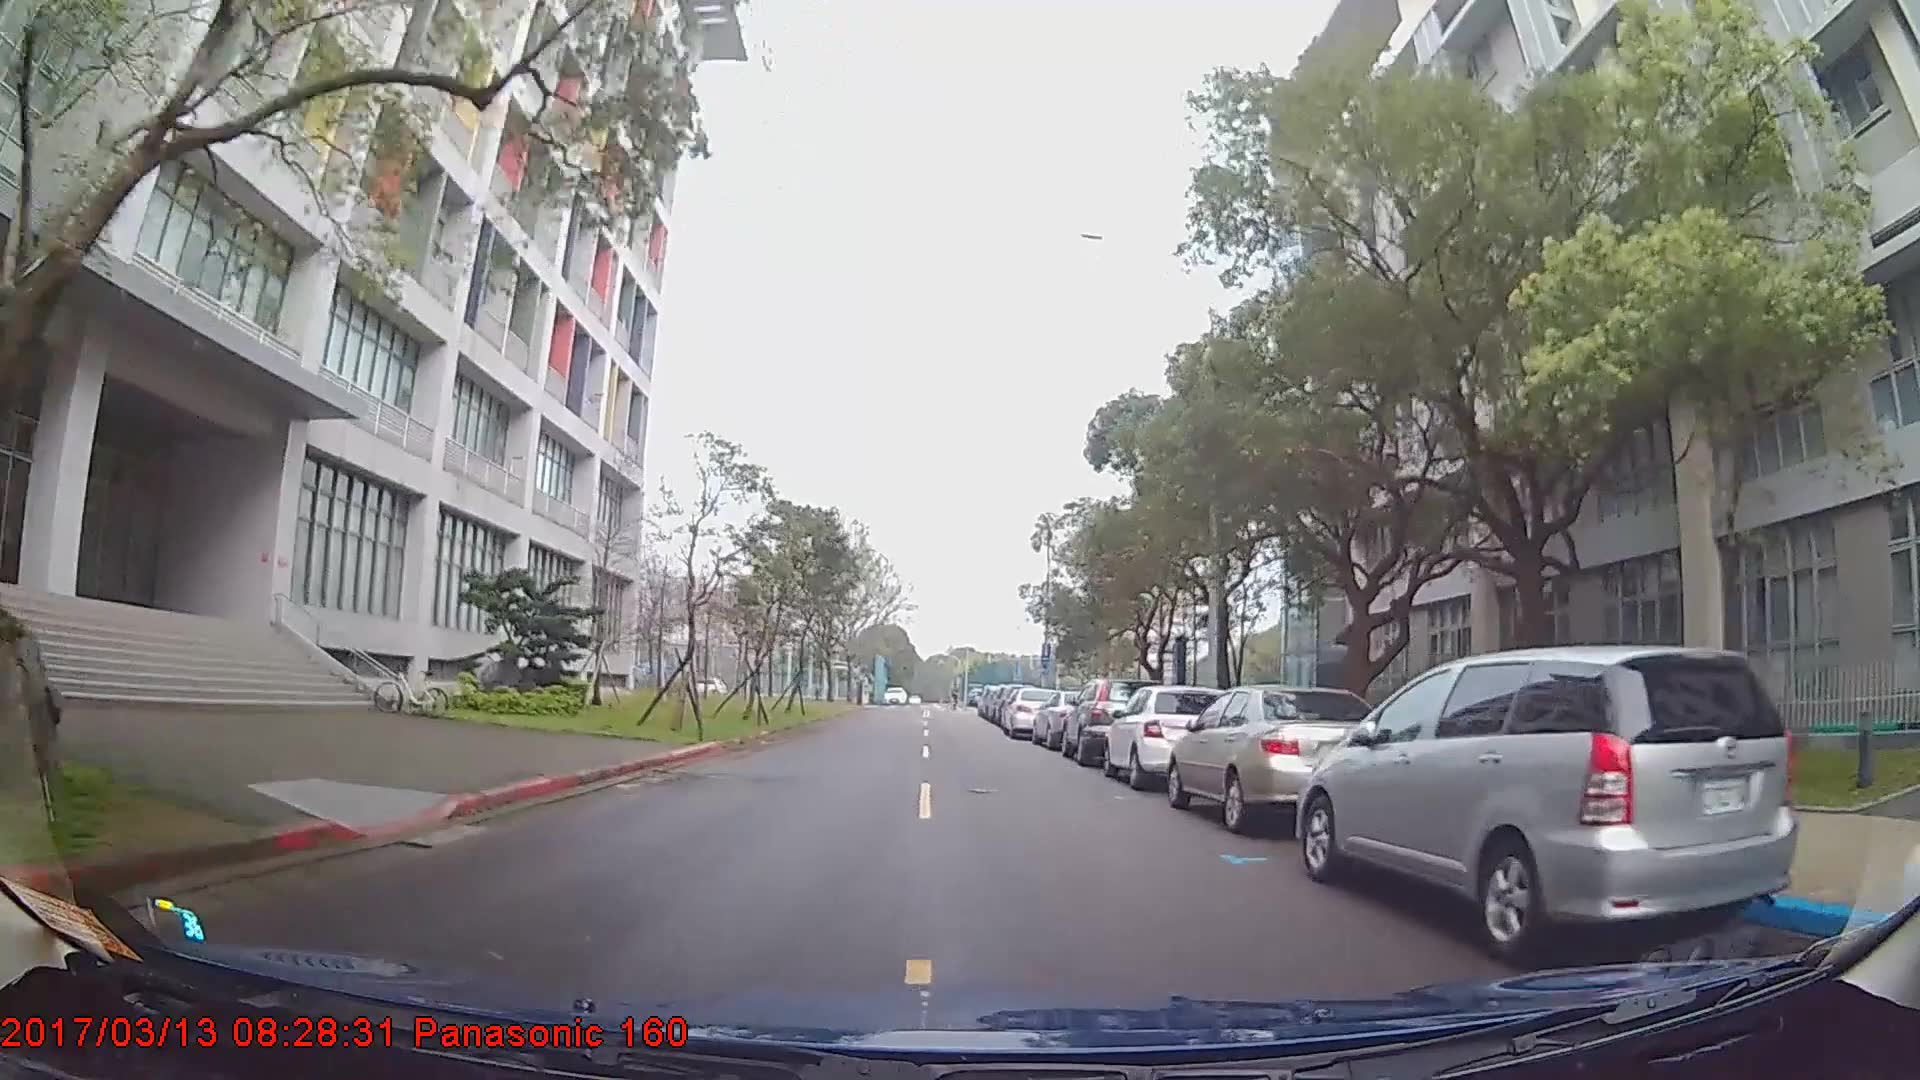vehicle: (1295, 642, 1797, 957), (1168, 682, 1394, 829), (1101, 684, 1225, 789), (1058, 675, 1159, 762), (1031, 687, 1116, 750), (1000, 684, 1062, 740)
